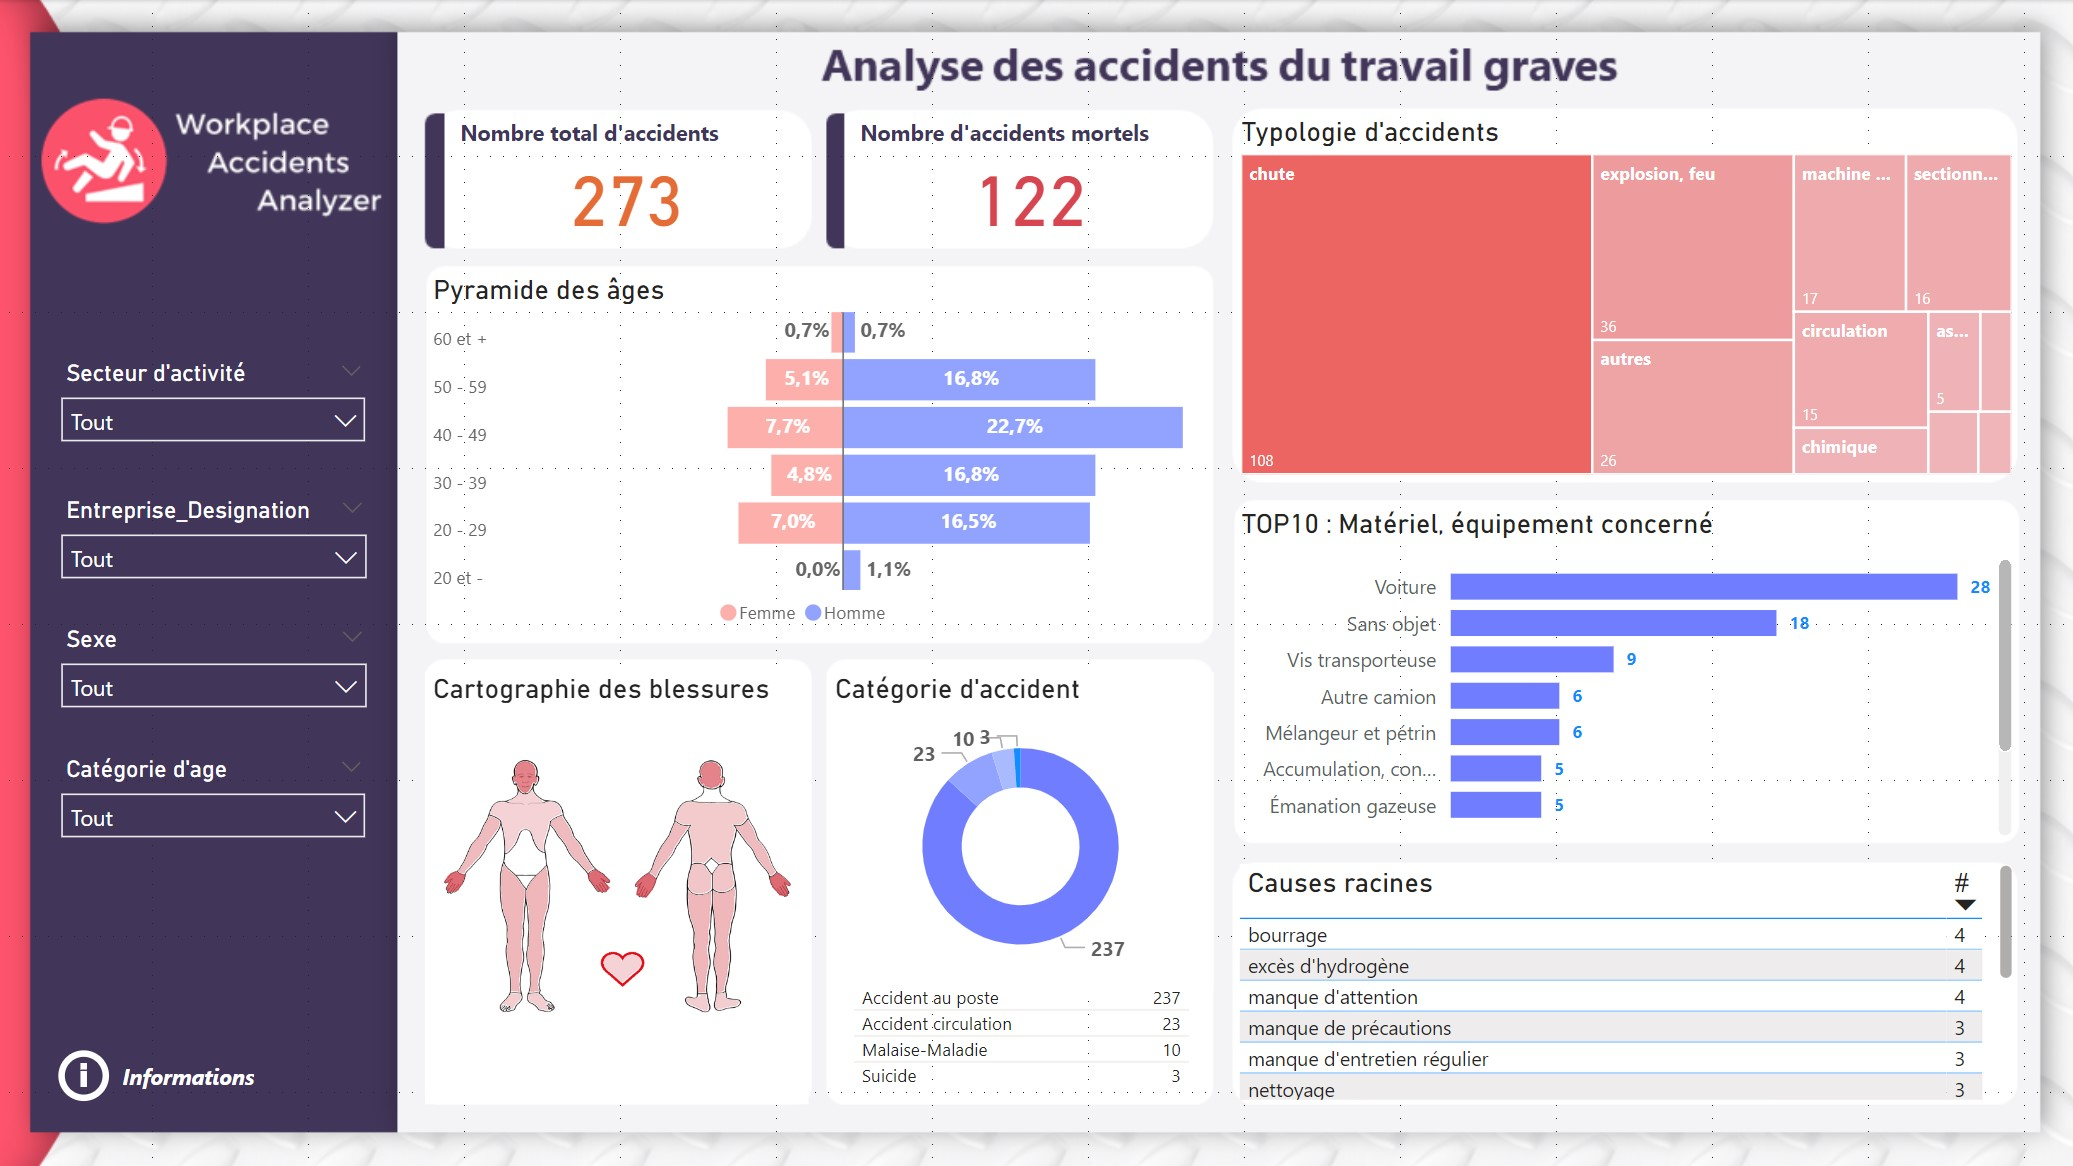

Layout of this report page (visuals, bound fields, positions):
{"tool":"powerbi","page":{"name":"Page 1","canvas":[1280,720],"ordinal":0},"visuals":[{"type":"TornadoChart1452517688218","title":"Pyramide des âges","fields":{"Values":["Sum(Accidents.Numero_dossier)"],"Series":["Accidents.Sexe"],"Category":["Accidents.Age_Categorie"]},"box":[263.8,162.8,485.8,252.1],"z":0},{"type":"treemap","title":"Typologie d''accidents","fields":{"Values":["Count(Accidents.Numero_dossier)"],"Group":["Accidents.Typologie_accident"]},"box":[761.3,65.9,484.2,231],"z":1000},{"type":"slicer","fields":{"Values":["Secteur.Secteur"]},"box":[29.9,216.8,207.5,65],"z":2000},{"type":"slicer","fields":{"Values":["Entreprsie.Entreprise_Designation"]},"box":[29.9,300.7,207.9,65.1],"z":3000},{"type":"barChart","title":"TOP10 : Matériel, équipement concerné","fields":{"Category":["Materiel.Materiel_Designation"],"Y":["CountNonNull(Accidents.Numero_dossier)"]},"box":[761.3,307.2,484.2,212],"z":4000},{"type":"slicer","fields":{"Values":["Accidents.Sexe"]},"box":[29.9,380.4,207.9,65.1],"z":5000},{"type":"card","fields":{"Values":["Count(Accidents.Numero_dossier)"]},"box":[275.8,85.8,225,66.7],"z":6000},{"type":"card","fields":{"Values":["Accidents.Mesure"]},"box":[521.7,85.8,228.3,66.7],"z":7000},{"type":"tableEx","fields":{"Values":["Causes.Cause","Accidents.Nombre_accidents"]},"box":[759.7,526.7,486.7,155.3],"z":8000},{"type":"textbox","box":[275.5,67.6,225.4,45.1],"z":9000},{"type":"textbox","box":[521.7,67.6,227.9,45.1],"z":10000},{"type":"PBI_CV_815282F9_27F5_4950_9430_E910E0A8DB6A","title":"Cartographie des blessures","fields":{"Y":["CountNonNull(Accidents.Numero_dossier)"],"State":["CountNonNull(Accidents.Numero_dossier)"],"Category":["Accidents.Zone_Corps"]},"box":[264,413.3,236.4,265.8],"z":11000},{"type":"slicer","fields":{"Values":["Accidents.Age_Categorie"]},"box":[30.1,460.1,207.5,65],"z":12000},{"type":"actionButton","box":[34.1,642.1,129,40.3],"z":14000},{"type":"tableEx","fields":{"Values":["Accidents.Categorie_accident","CountNonNull(Accidents.Accident_ID)"]},"box":[521.8,577.8,221.3,101.3],"z":17000},{"type":"donutChart","title":"Catégorie d''accident","fields":{"Y":["CountNonNull(Accidents.Numero_dossier)"],"Category":["Accidents.Categorie_accident"]},"box":[511.1,413.3,238.2,195.6],"z":17500}]}

Visuals, with their boxes in screenshot pixels (x1, y1, x2, y2), scaled from the page's 1280x720 canvas onto the 2073x1166 screenshot:
"Pyramide des âges" TornadoChart1452517688218: select_region(427, 264, 1214, 672)
"Typologie d''accidents" treemap: select_region(1233, 107, 2017, 481)
slicer - Secteur.Secteur: select_region(48, 351, 384, 456)
slicer - Entreprsie.Entreprise_Designation: select_region(48, 487, 385, 592)
"TOP10 : Matériel, équipement concerné" barChart: select_region(1233, 497, 2017, 841)
slicer - Accidents.Sexe: select_region(48, 616, 385, 721)
card - Count(Accidents.Numero_dossier): select_region(447, 139, 811, 247)
card - Accidents.Mesure: select_region(845, 139, 1215, 247)
tableEx - Causes.Cause x Accidents.Nombre_accidents: select_region(1230, 853, 2019, 1104)
textbox: select_region(446, 109, 811, 183)
textbox: select_region(845, 109, 1214, 183)
"Cartographie des blessures" PBI_CV_815282F9_27F5_4950_9430_E910E0A8DB6A: select_region(428, 669, 810, 1100)
slicer - Accidents.Age_Categorie: select_region(49, 745, 385, 850)
actionButton: select_region(55, 1040, 264, 1105)
tableEx - Accidents.Categorie_accident x CountNonNull(Accidents.Accident_ID): select_region(845, 936, 1203, 1100)
"Catégorie d''accident" donutChart: select_region(828, 669, 1214, 986)
